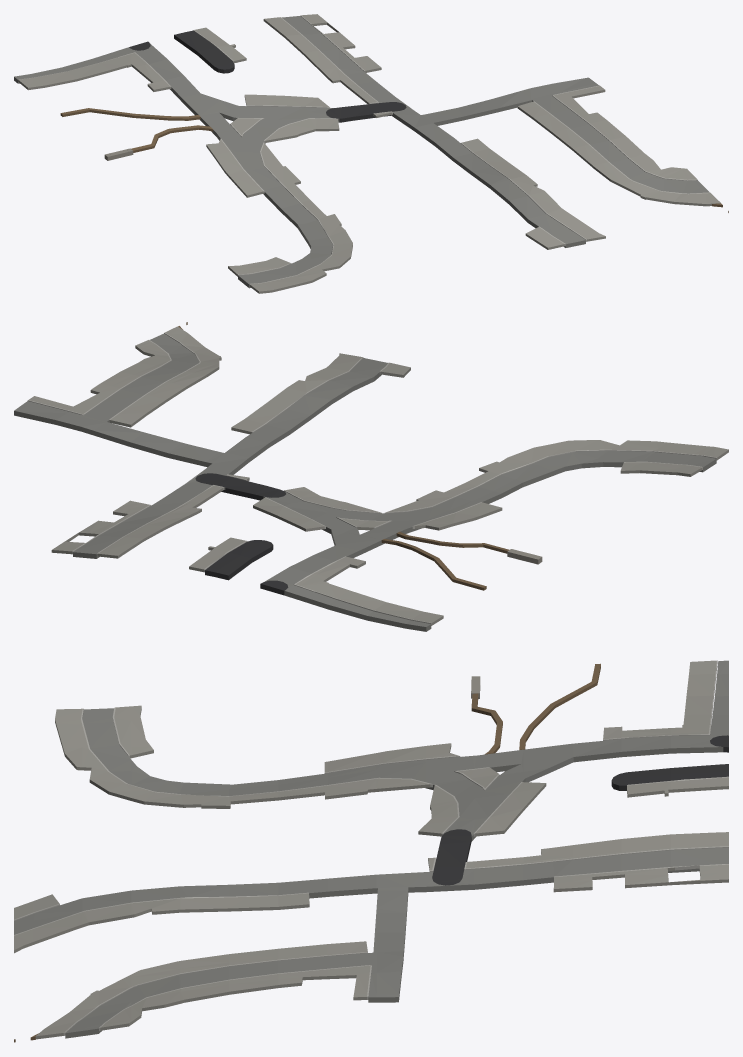
Rendered from 18-218868-118977.f5609cfa.glb.
3 views of the same model, one above another, from view 1: azimuth 30°, elevation 25°; view 2: azimuth 150°, elevation 25°; view 3: azimuth 270°, elevation 25° (orthographic). The views are drawn at different scales.
Size of the model in its own units: 147 by 18.4 by 146.
